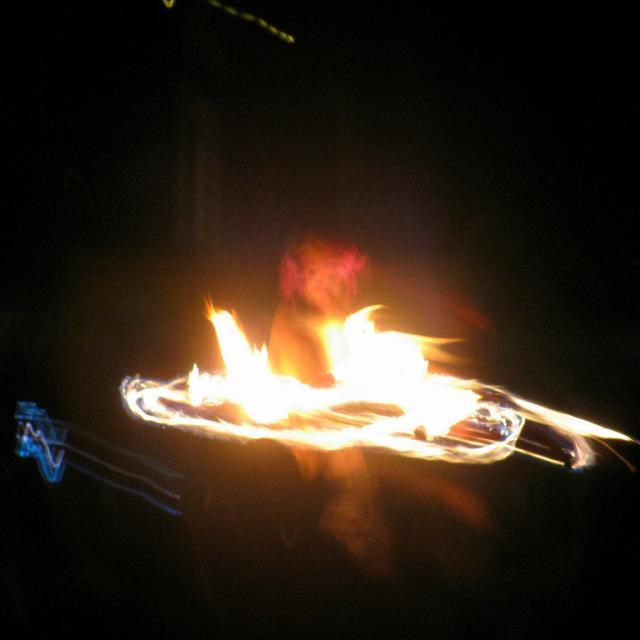Fire: (328, 312, 452, 422), (218, 332, 292, 434)
